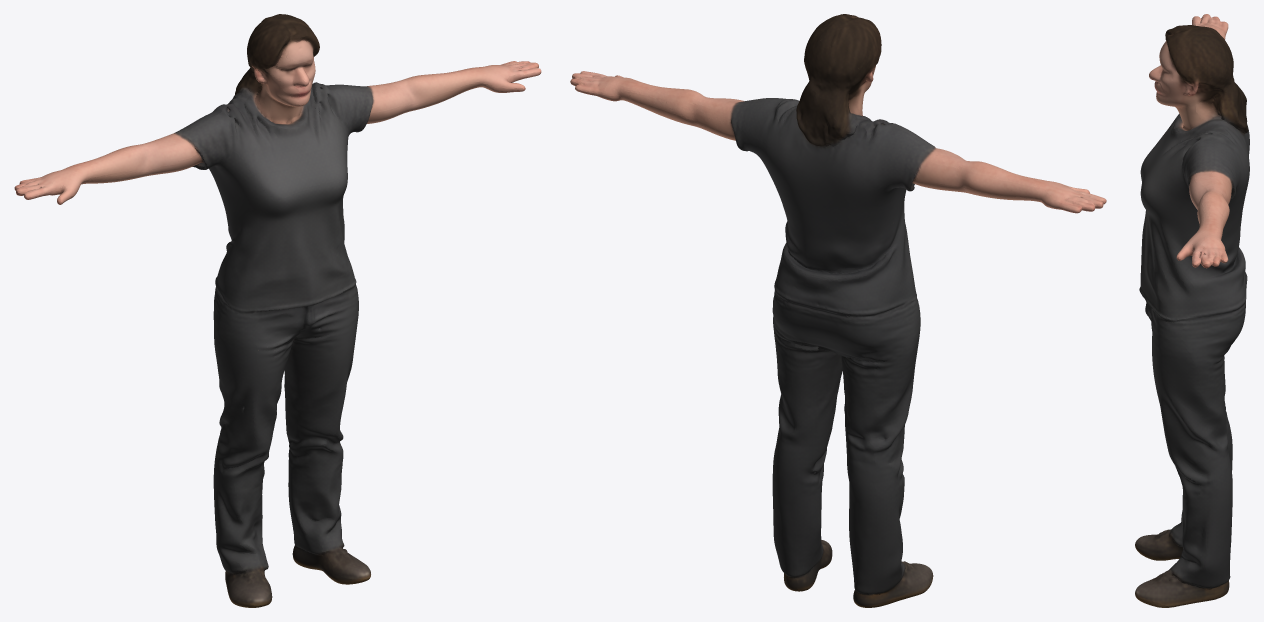
File: character-tpose.glb
3 views of the same model, side by side, from view 1: azimuth 30°, elevation 25°; view 2: azimuth 150°, elevation 25°; view 3: azimuth 270°, elevation 25° (orthographic). The views are drawn at different scales.
Parts seen in each view (by area): view 1: world; view 2: world; view 3: world.
Boxes of the visible parts, x1,y1,x2,y2 form: world: (14, 14, 541, 607); world: (570, 14, 1106, 607); world: (1135, 14, 1249, 607).
Bounding box in the file's own units: 1.61 × 1.65 × 0.3124.
1 material, 1 textured.
